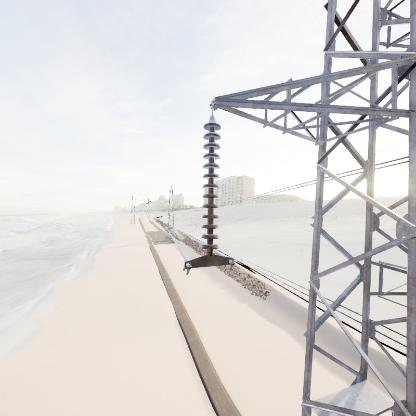insulator: (197, 120, 226, 255)
